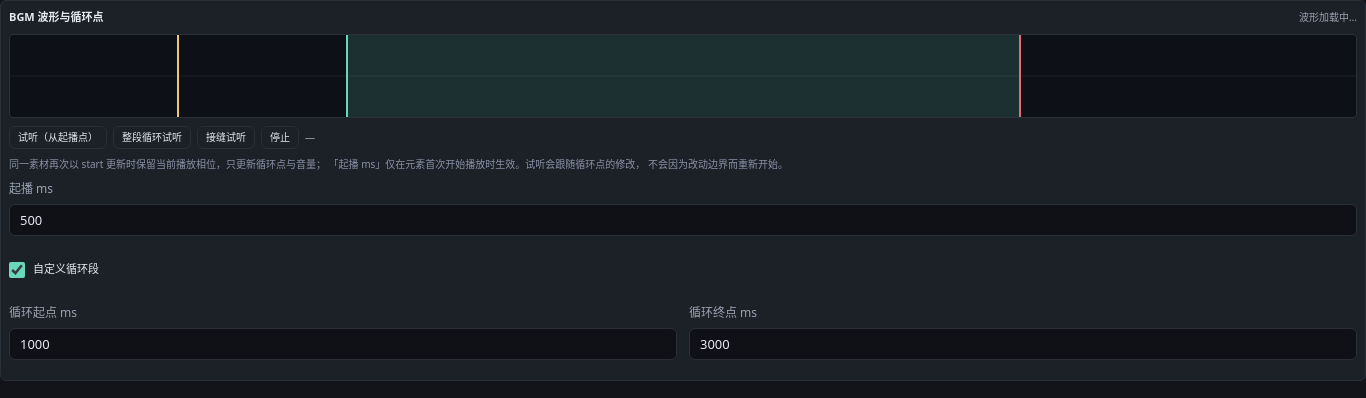
Test: AudioLoopEditor › queues the start position while metadata is still pending
This screenshot has width=1366, height=398.
Click the button "试听（从起播点）" at coordinates (58, 137), box x1=9 y1=126 x2=107 y2=148
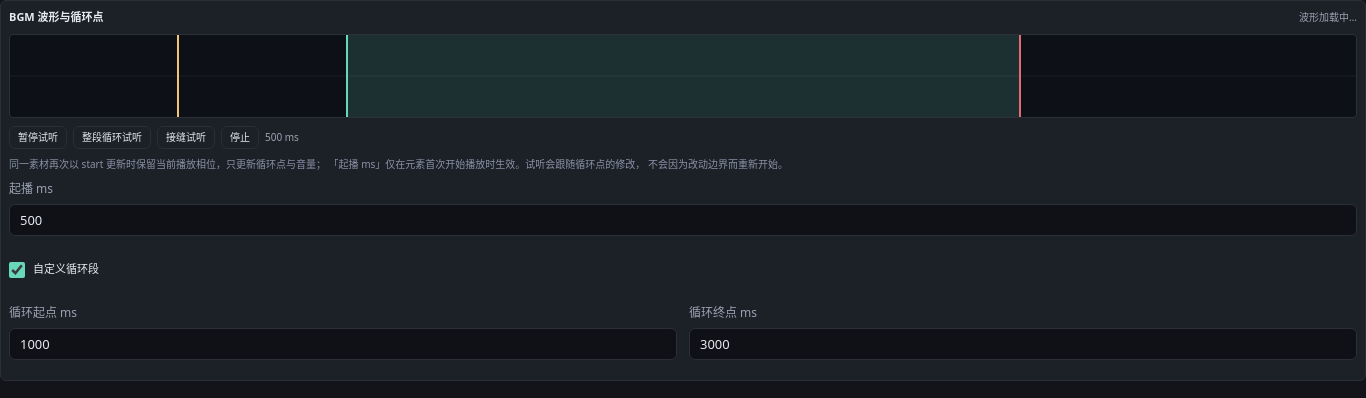
Expected: the text "500 ms" is shown, x1=265 y1=130 x2=299 y2=144
